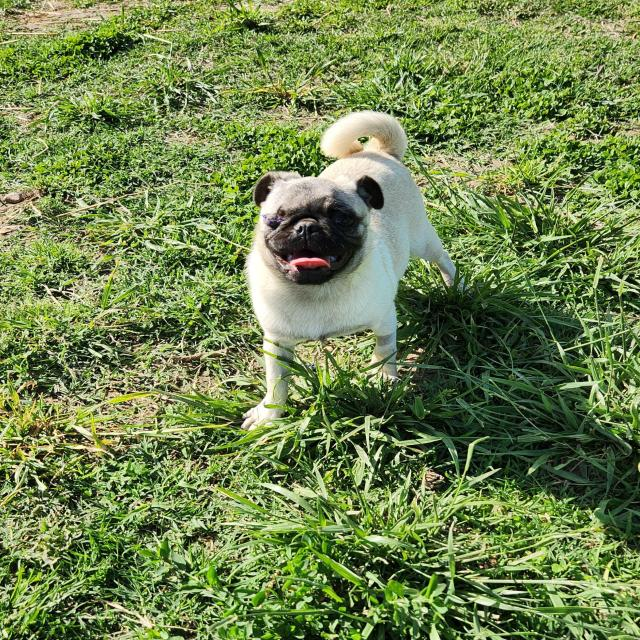pug_dog: (232, 163, 407, 297)
